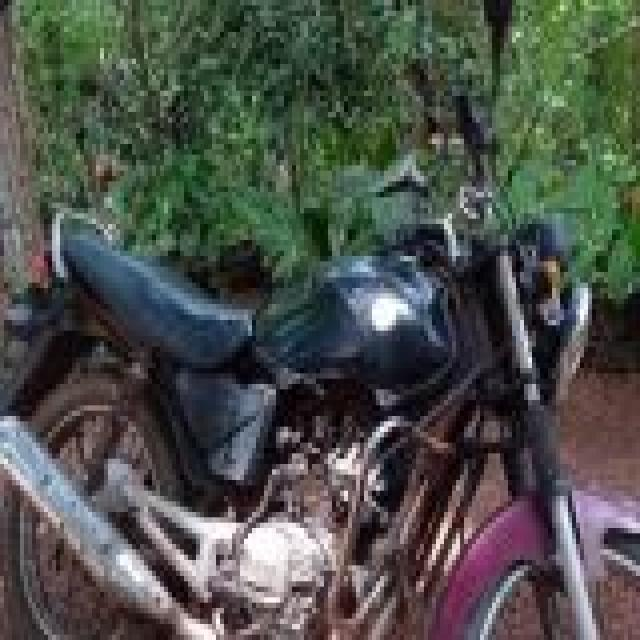motorbike: (0, 172, 640, 640)
